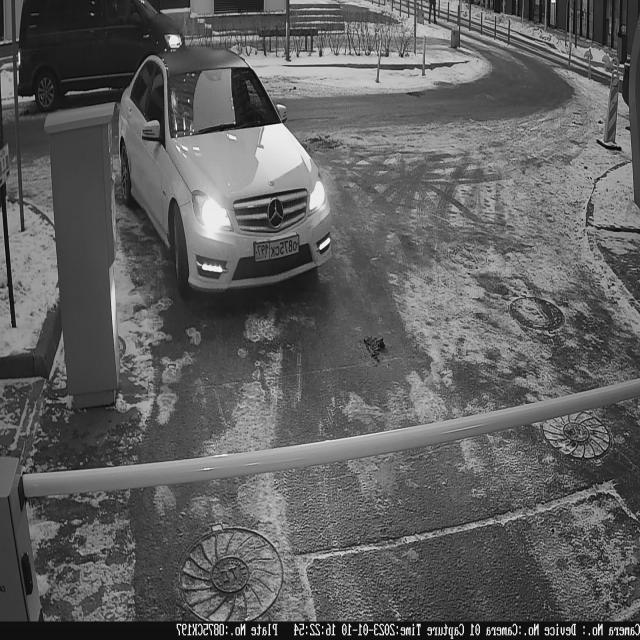car-plate-numbers: (253, 231, 302, 266)
